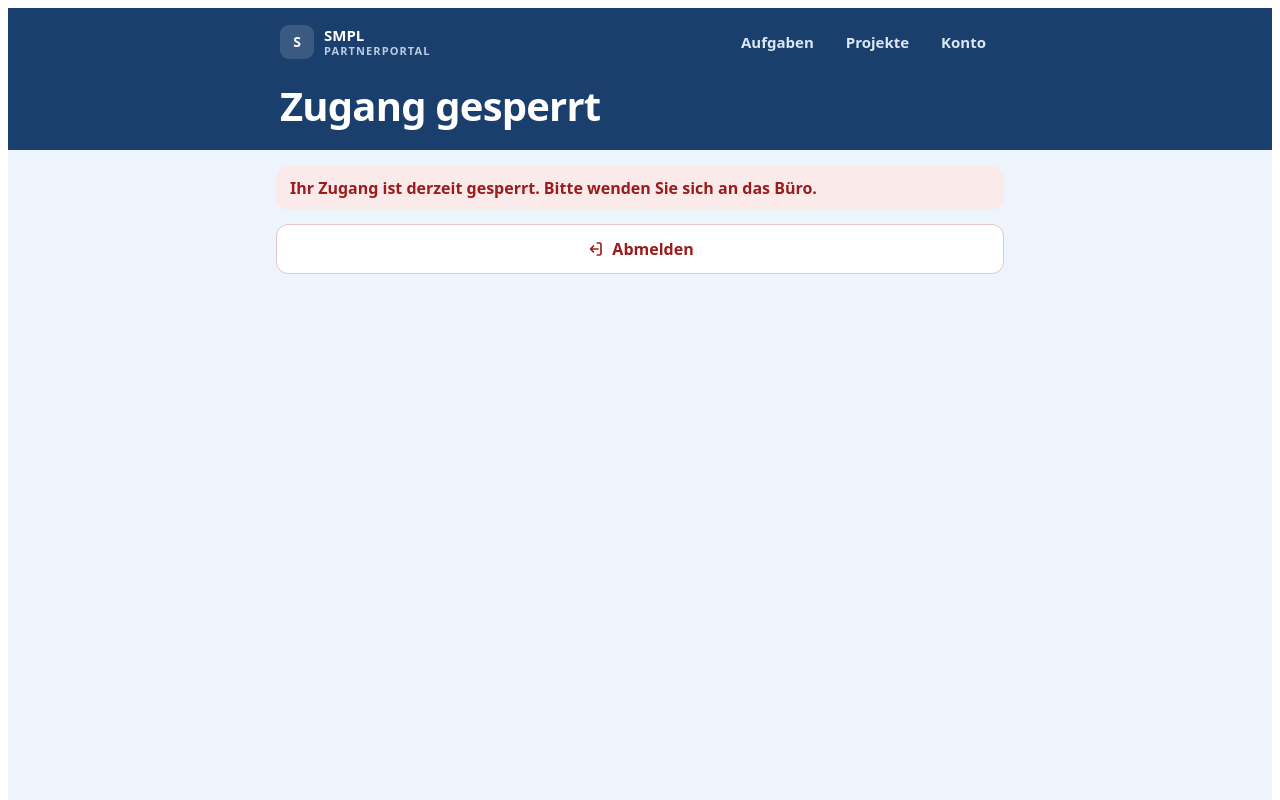
Test: PortalApp › tells a partner whose access was closed, and lets them sign out
Check: the heading "Zugang gesperrt" is shown, box [280,78,600,133]
Click the button "Abmelden": (640, 249) [276,224,1004,274]
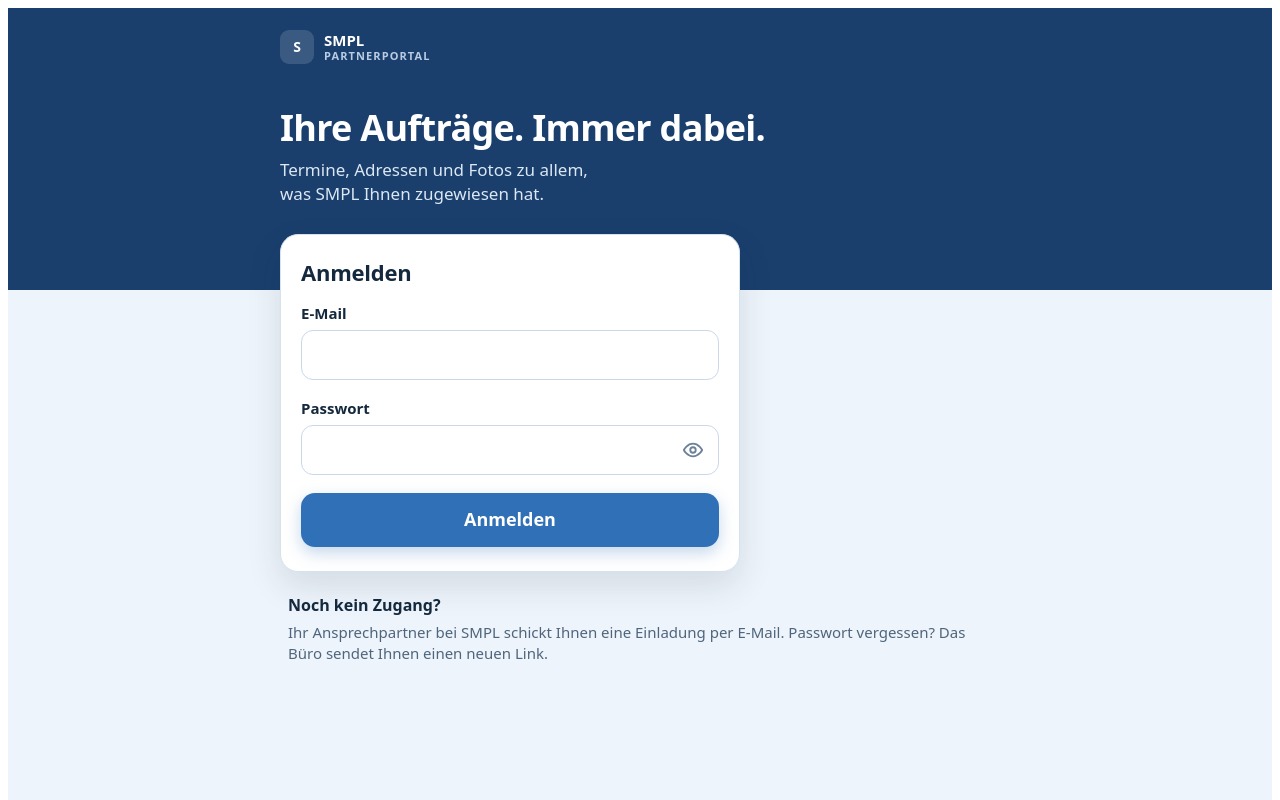
Check: the heading "Anmelden" is shown, box [301,257,412,287]
